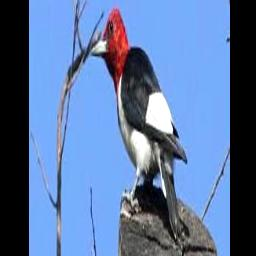Woodpecker: (90, 7, 187, 239)
